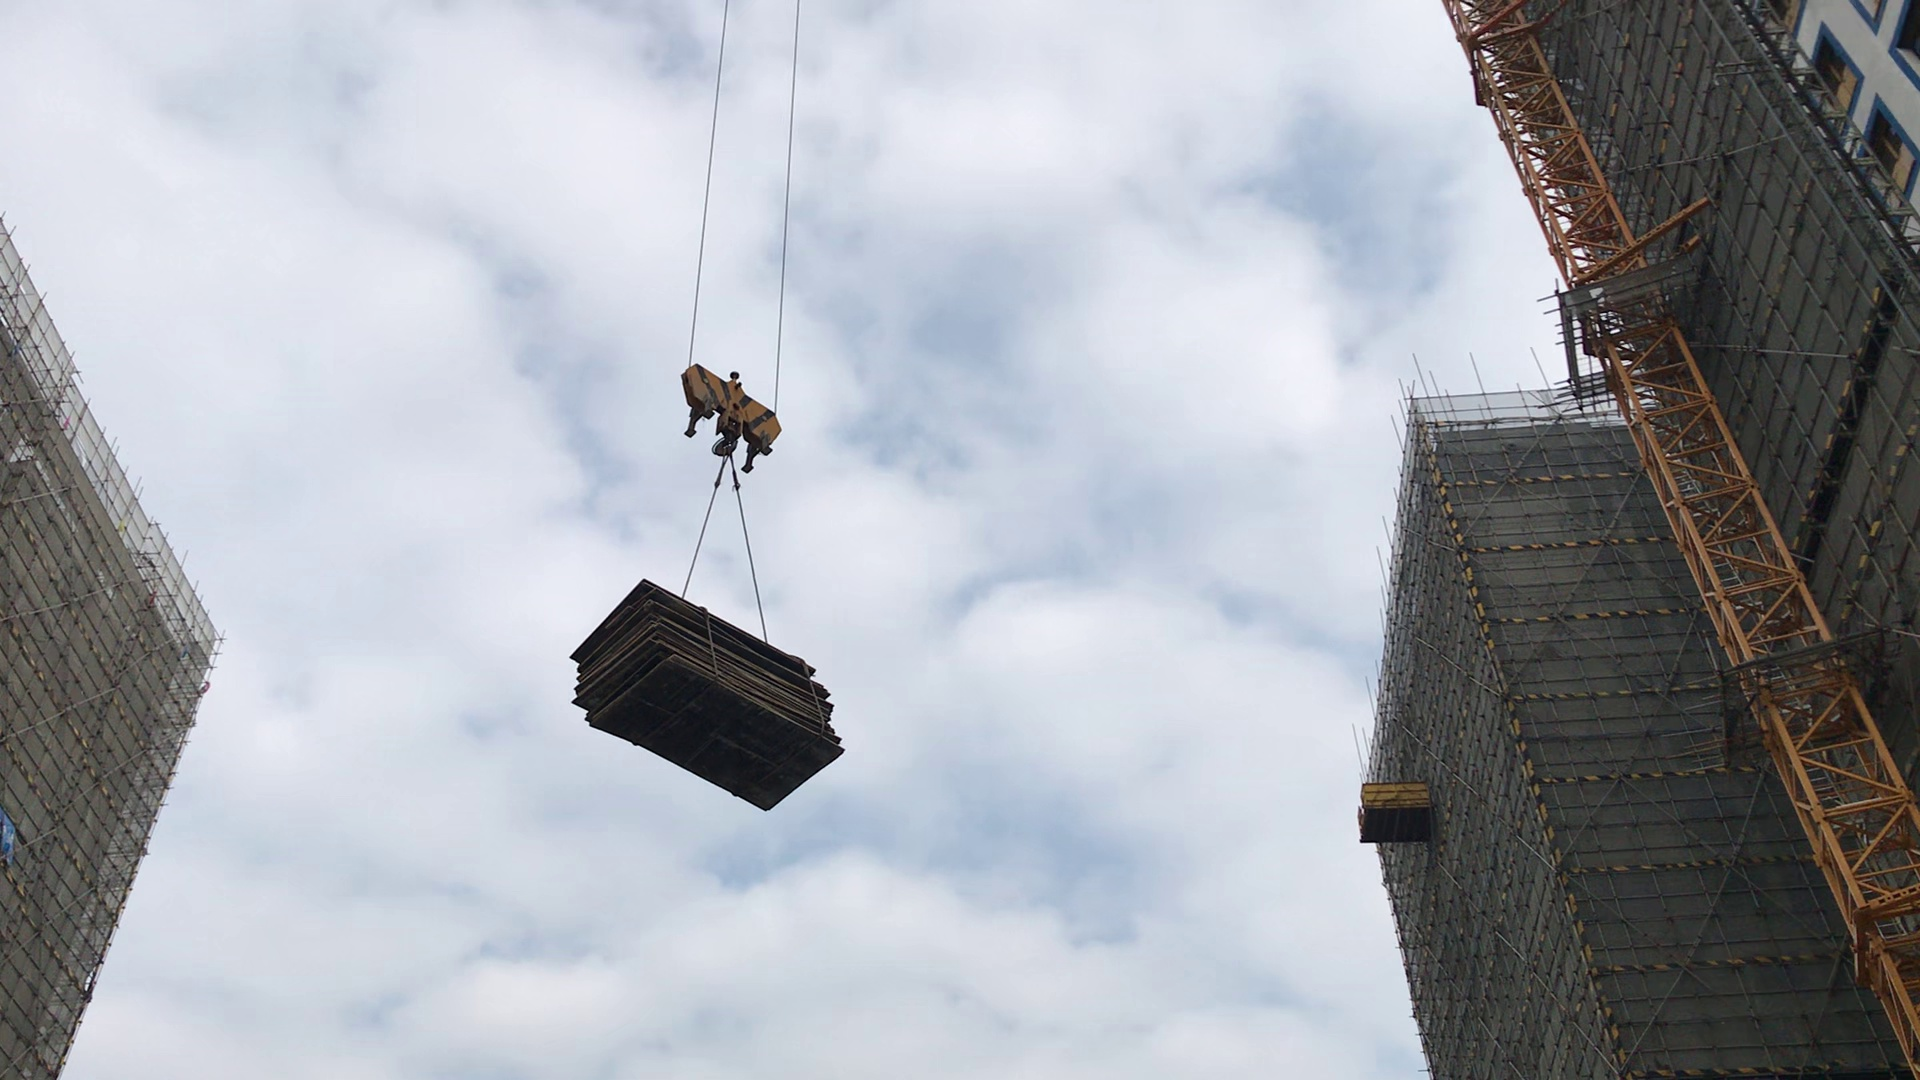board: (564, 572, 857, 833)
hook: (676, 349, 785, 485)
